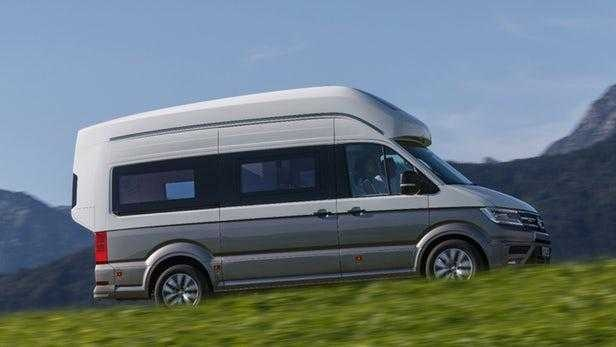van: (70, 84, 551, 311)
